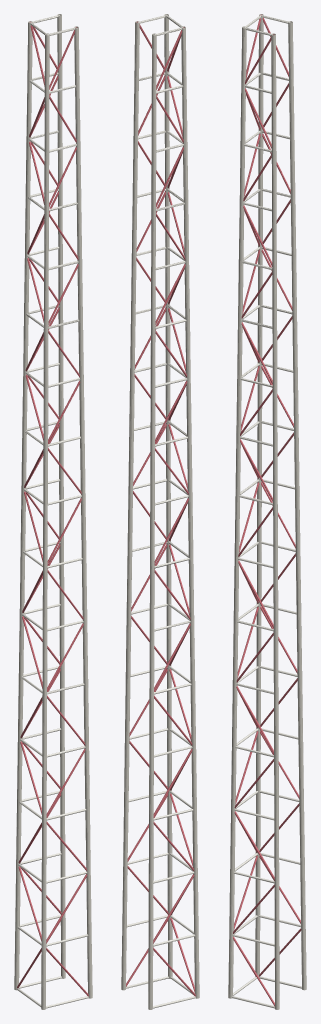
The model's file is mastil.glb.
3 renders of one model, left to right at view 1: azimuth 30°, elevation 25°; view 2: azimuth 210°, elevation 25°; view 3: azimuth 330°, elevation 25°, orthographic.
Visible parts, largest first — view 1: mastil_patas, mastil_diagonales, mastil_travesanos; view 2: mastil_patas, mastil_diagonales, mastil_travesanos; view 3: mastil_patas, mastil_diagonales, mastil_travesanos.
Part boxes in pixels (box(x1,y1,x2,y2)): mastil_patas: box(14, 14, 92, 1009); mastil_diagonales: box(17, 21, 88, 996); mastil_travesanos: box(16, 15, 88, 1008); mastil_patas: box(121, 14, 199, 1009); mastil_diagonales: box(126, 21, 195, 996); mastil_travesanos: box(126, 15, 195, 1008); mastil_patas: box(228, 14, 306, 1009); mastil_diagonales: box(233, 14, 301, 1006); mastil_travesanos: box(232, 15, 301, 1008).
Size of the model in its own units: 1.74 by 31.7 by 1.74.
